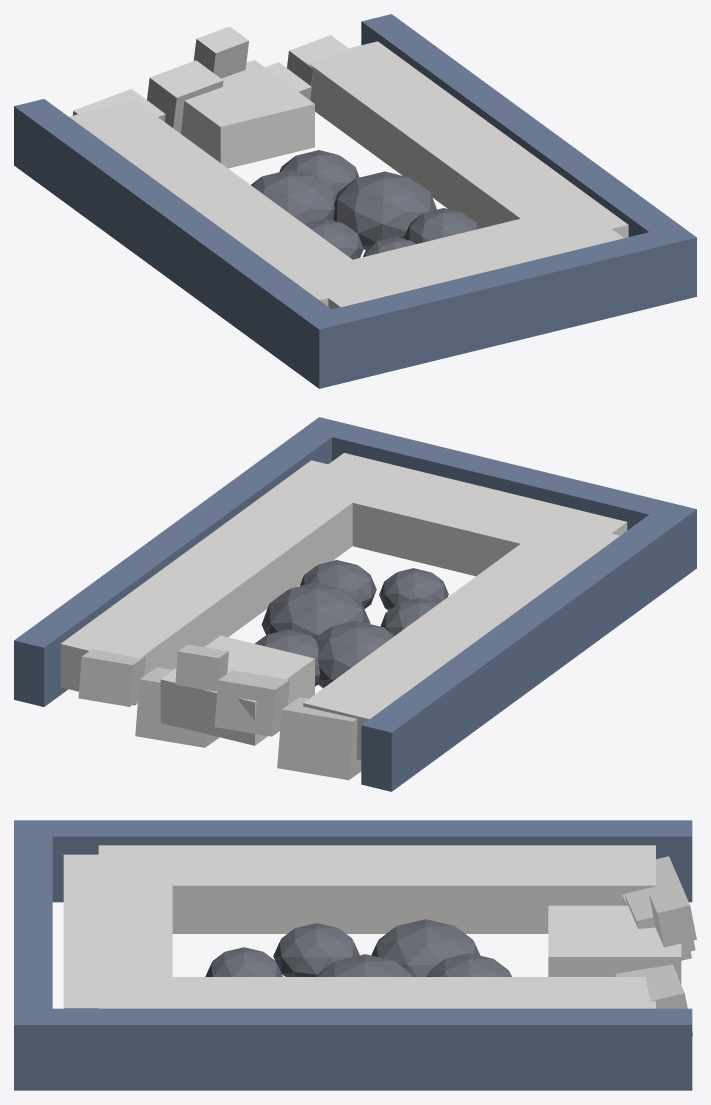
Rendered from 06_wall_broken.glb.
The picture shows the model from 3 angles, top to bottom: view 1: azimuth 30°, elevation 25°; view 2: azimuth 150°, elevation 25°; view 3: azimuth 270°, elevation 25°; orthographic projection. The views are drawn at different scales.
Parts seen in each view (by area): view 1: part_16, part_17, part_2, part_1, part_18, part_3, part_4, part_6, part_5, part_12, part_15, part_7 (+5 smaller); view 2: part_17, part_2, part_3, part_1, part_18, part_16, part_4, part_11, part_6, part_12, part_14, part_5 (+6 smaller); view 3: part_18, part_1, part_17, part_2, part_3, part_16, part_4, part_5, part_8, part_15, part_10, part_6 (+4 smaller).
Part boxes in pixels (box(x1,y1,x2,y2)): part_16: box(302, 225, 696, 388); part_17: box(14, 99, 349, 388); part_2: box(308, 41, 628, 242); part_1: box(69, 100, 385, 306); part_18: box(361, 14, 696, 303); part_3: box(296, 218, 623, 309); part_4: box(181, 60, 314, 168); part_6: box(333, 171, 436, 249); part_5: box(251, 169, 336, 223); part_12: box(147, 60, 223, 133); part_15: box(193, 26, 248, 78); part_7: box(279, 150, 359, 196); part_17: box(361, 502, 696, 791); part_2: box(60, 460, 385, 705); part_3: box(295, 453, 627, 576); part_1: box(303, 519, 619, 760); part_18: box(14, 418, 348, 706); part_16: box(302, 417, 696, 580); part_4: box(160, 635, 314, 745); part_11: box(277, 697, 361, 780); part_6: box(261, 582, 370, 638); part_12: box(214, 670, 289, 736); part_14: box(78, 649, 145, 706); part_5: box(315, 620, 394, 688); part_18: box(14, 1008, 692, 1090); part_1: box(98, 845, 655, 933); part_17: box(14, 820, 692, 902); part_2: box(98, 977, 655, 1008); part_3: box(63, 854, 172, 1008); part_16: box(14, 820, 52, 1090); part_4: box(548, 905, 681, 984); part_5: box(371, 919, 480, 976); part_8: box(273, 923, 359, 976); part_15: box(649, 886, 696, 947); part_10: box(205, 947, 282, 976); part_6: box(315, 954, 414, 976).
Size of the model in its own units: 2 by 0.5876 by 2.82.
